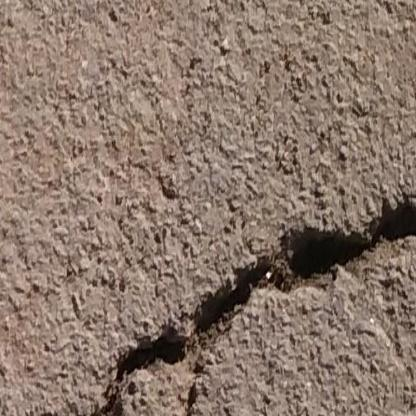Cracks: (55, 193, 416, 416)
